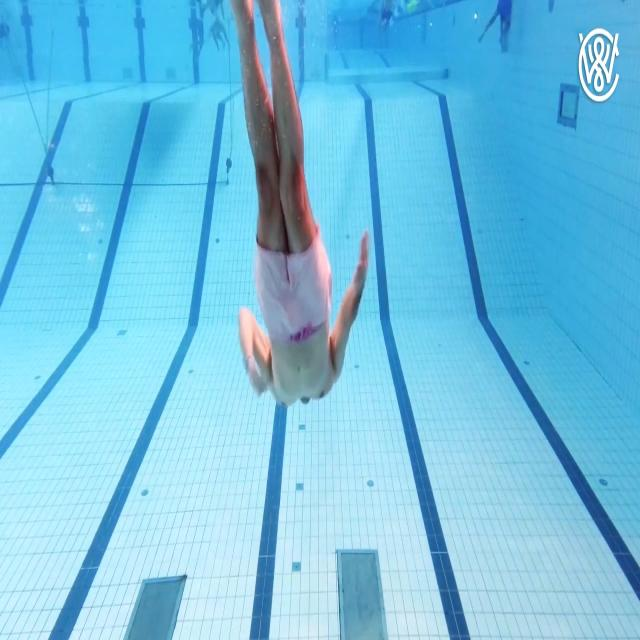Swimming: (224, 1, 370, 411)
